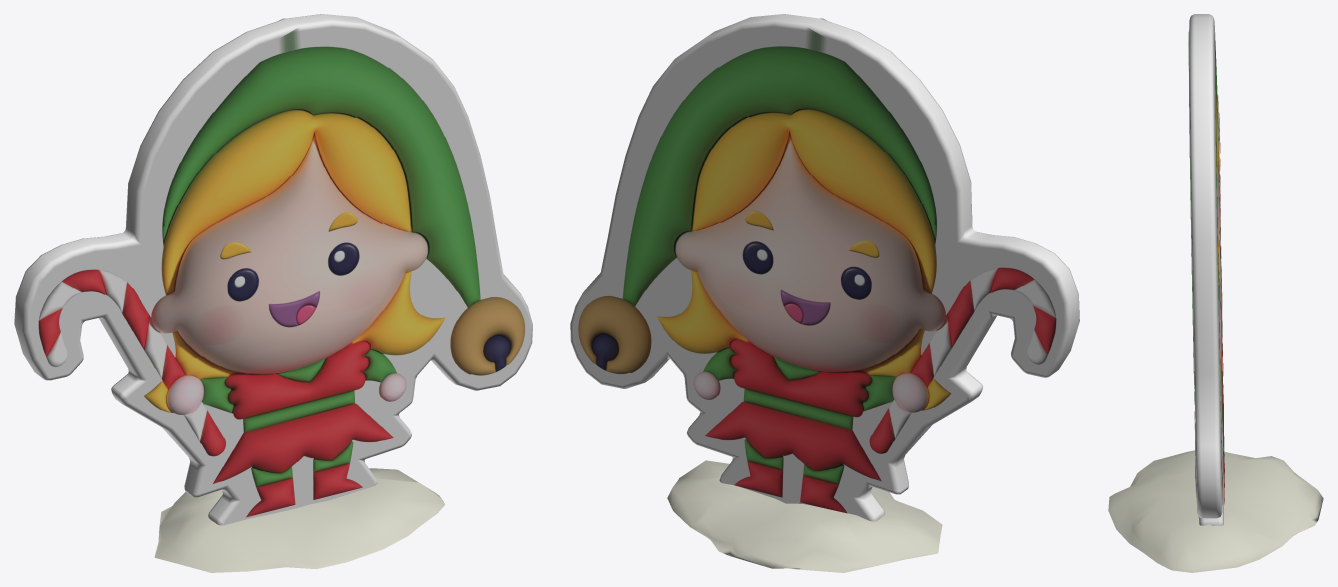
The model's file is Jovi.glb.
3 views of the same model, side by side, from view 1: azimuth 30°, elevation 25°; view 2: azimuth 150°, elevation 25°; view 3: azimuth 270°, elevation 25° (orthographic). The views are drawn at different scales.
Visible parts, largest first — view 1: Asset 1, JOVI.001, JOVI; view 2: Asset 1.002, JOVI.001, JOVI; view 3: JOVI, JOVI.001, Asset 1.002, Asset 1.
Part boxes in pixels (box(x1,y1,x2,y2)): Asset 1: box(38, 28, 525, 517); JOVI.001: box(14, 14, 532, 525); JOVI: box(154, 468, 445, 572); Asset 1.002: box(578, 28, 1056, 513); JOVI.001: box(570, 14, 1079, 521); JOVI: box(667, 460, 942, 572); JOVI: box(1108, 450, 1323, 572); JOVI.001: box(1189, 14, 1224, 525); Asset 1.002: box(1214, 34, 1224, 504); Asset 1: box(1188, 32, 1198, 517).
Size of the model in its own units: 0.0417 by 0.0395 by 0.0161.
3 materials, 2 textured.
